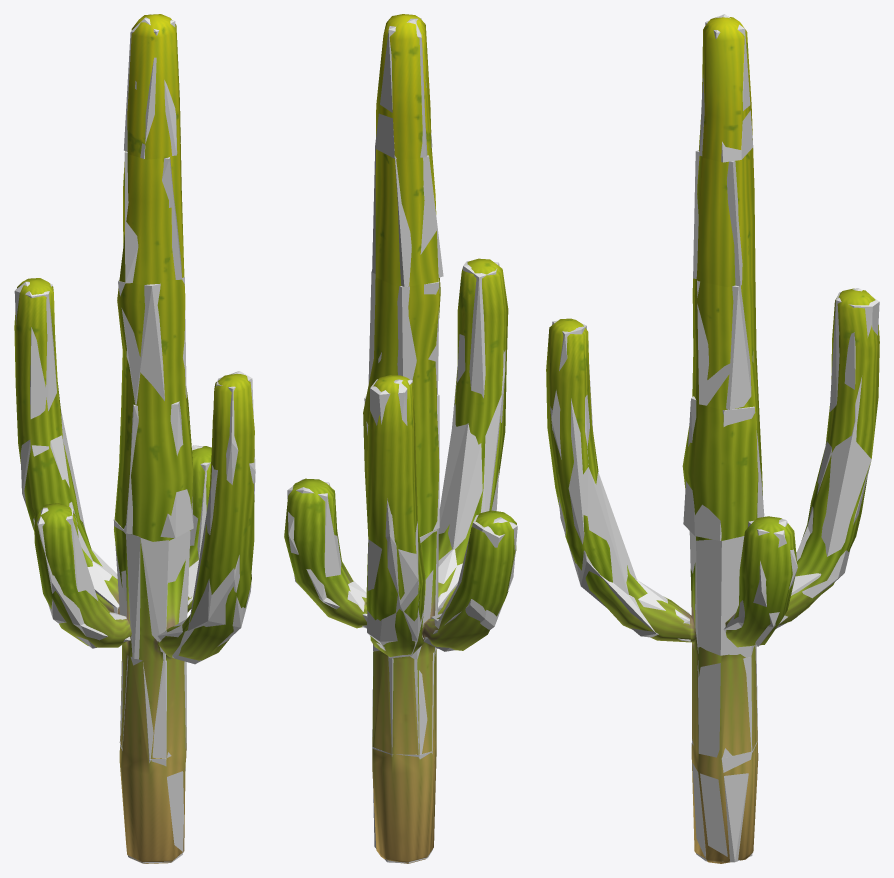
File: Fractured_7.fbx
3 views of the same model, side by side, from view 1: azimuth 30°, elevation 25°; view 2: azimuth 150°, elevation 25°; view 3: azimuth 270°, elevation 25° (orthographic).
Visible parts, largest first — view 1: cactus_7_branch_3, cactus_7_branch_1, cactus_7_body_4, cactus_7_body_6, cactus_7_body_7, cactus_7_body_1, cactus_7_branch_2, cactus_7_body_5, cactus_7_body_3_cd, cactus_7_body_2, cactus_7_branch_1_cd, cactus_7_branch_3_cd (+10 smaller); view 2: cactus_7_branch_1, cactus_7_branch_3_cd, cactus_7_branch_3, cactus_7_body_1, cactus_7_body_6, cactus_7_branch_2, cactus_7_branch_4, cactus_7_body_7, cactus_7_body_2, cactus_7_body_5, cactus_7_branch_1_cd, cactus_7_body_4 (+8 smaller); view 3: cactus_7_branch_3, cactus_7_branch_1, cactus_7_body_4, cactus_7_branch_1_cd, cactus_7_branch_3_cd, cactus_7_body_6, cactus_7_body_7, cactus_7_branch_4, cactus_7_body_3_cd, cactus_7_body_5, cactus_7_body_2, cactus_7_body_1_cd (+8 smaller).
Boxes of the visible parts, left/top/right/bottom form: cactus_7_branch_3: left=158, top=374, right=254, bottom=660; cactus_7_branch_1: left=14, top=278, right=119, bottom=613; cactus_7_body_4: left=114, top=388, right=193, bottom=537; cactus_7_body_6: left=119, top=144, right=184, bottom=284; cactus_7_body_7: left=127, top=14, right=180, bottom=159; cactus_7_body_1: left=119, top=738, right=186, bottom=863; cactus_7_branch_2: left=34, top=503, right=130, bottom=647; cactus_7_body_5: left=117, top=279, right=185, bottom=406; cactus_7_body_3_cd: left=113, top=519, right=190, bottom=661; cactus_7_body_2: left=120, top=646, right=186, bottom=758; cactus_7_branch_1_cd: left=14, top=281, right=119, bottom=613; cactus_7_branch_3_cd: left=157, top=371, right=255, bottom=664; cactus_7_branch_1: left=366, top=375, right=425, bottom=656; cactus_7_branch_3_cd: left=438, top=261, right=505, bottom=612; cactus_7_branch_3: left=438, top=258, right=508, bottom=614; cactus_7_body_1: left=372, top=739, right=436, bottom=863; cactus_7_body_6: left=375, top=148, right=438, bottom=285; cactus_7_branch_2: left=423, top=510, right=516, bottom=650; cactus_7_branch_4: left=284, top=478, right=367, bottom=628; cactus_7_body_7: left=376, top=14, right=431, bottom=158; cactus_7_body_2: left=372, top=649, right=436, bottom=754; cactus_7_body_5: left=366, top=277, right=440, bottom=405; cactus_7_branch_1_cd: left=367, top=379, right=423, bottom=658; cactus_7_body_4: left=363, top=396, right=439, bottom=536; cactus_7_branch_3: left=546, top=318, right=690, bottom=642; cactus_7_branch_1: left=778, top=288, right=879, bottom=625; cactus_7_body_4: left=682, top=393, right=762, bottom=540; cactus_7_branch_1_cd: left=776, top=288, right=879, bottom=628; cactus_7_branch_3_cd: left=550, top=320, right=690, bottom=641; cactus_7_body_6: left=696, top=148, right=755, bottom=287; cactus_7_body_7: left=699, top=17, right=752, bottom=161; cactus_7_branch_4: left=725, top=516, right=797, bottom=647; cactus_7_body_3_cd: left=689, top=531, right=755, bottom=657; cactus_7_body_5: left=692, top=273, right=758, bottom=409; cactus_7_body_2: left=692, top=648, right=757, bottom=758; cactus_7_body_1_cd: left=691, top=740, right=757, bottom=862.
Bounding box in the file's own units: 629 × 2403 × 866.
